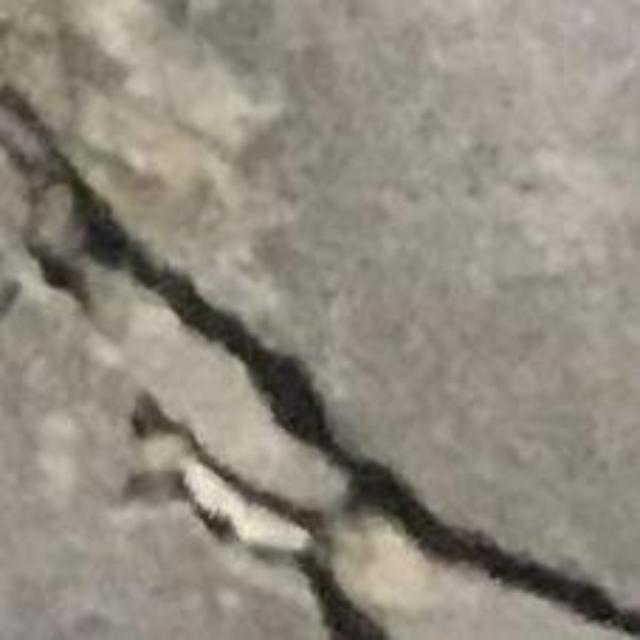crack: (0, 85, 639, 639)
